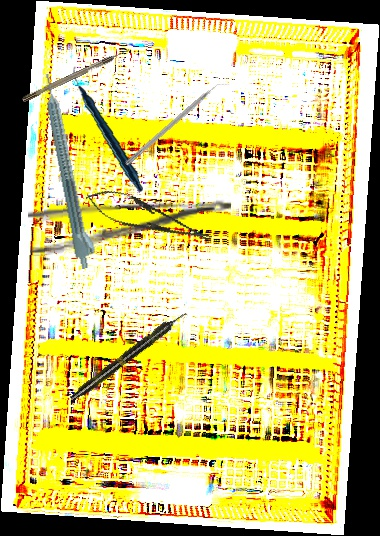Chopper: (124, 76, 231, 172)
Dressing Forceps: (27, 197, 234, 257)
Handpiece: (39, 71, 101, 270), (67, 307, 191, 405), (61, 66, 155, 192)
Hook Surgical: (21, 47, 131, 103)
Needle Holder: (81, 181, 217, 255)
